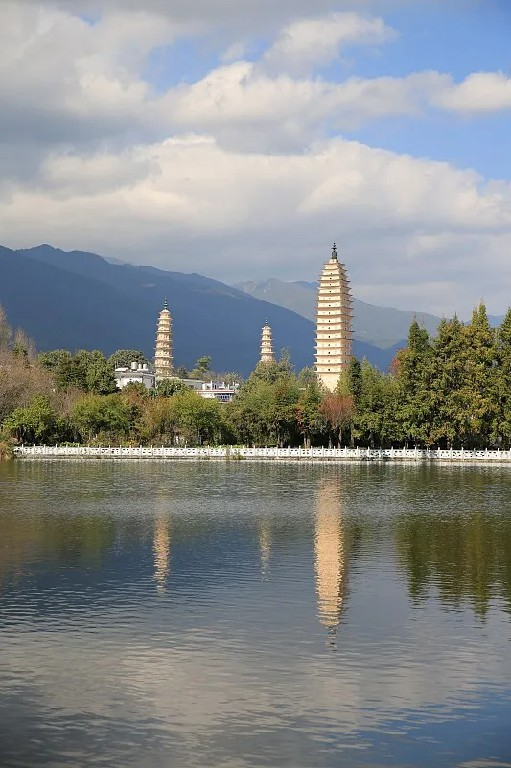ThreePagoda: (313, 243, 355, 392)
